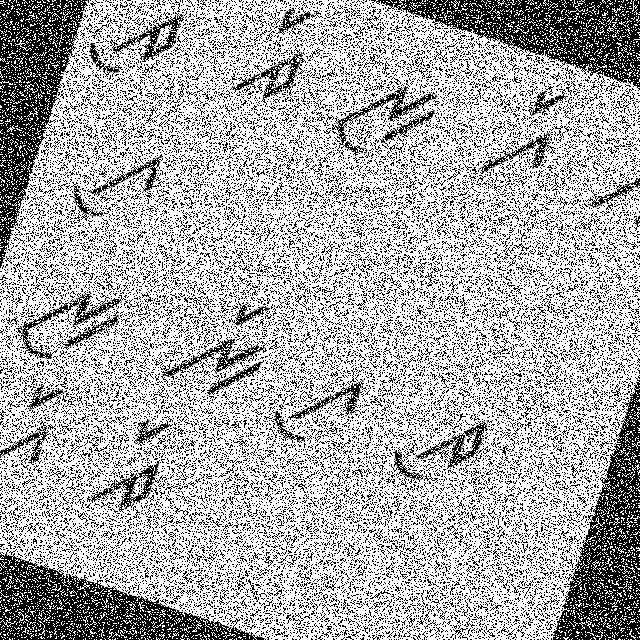gar: (470, 67, 575, 196), (0, 363, 75, 490)
gaw: (262, 347, 372, 462), (56, 124, 168, 236)
nga: (576, 137, 639, 251)
ngar: (152, 274, 284, 413)
ngaw: (2, 259, 132, 382), (318, 54, 446, 176)
tar: (84, 401, 200, 535), (221, 0, 324, 114)
taw: (374, 388, 501, 502), (75, 0, 194, 101)
